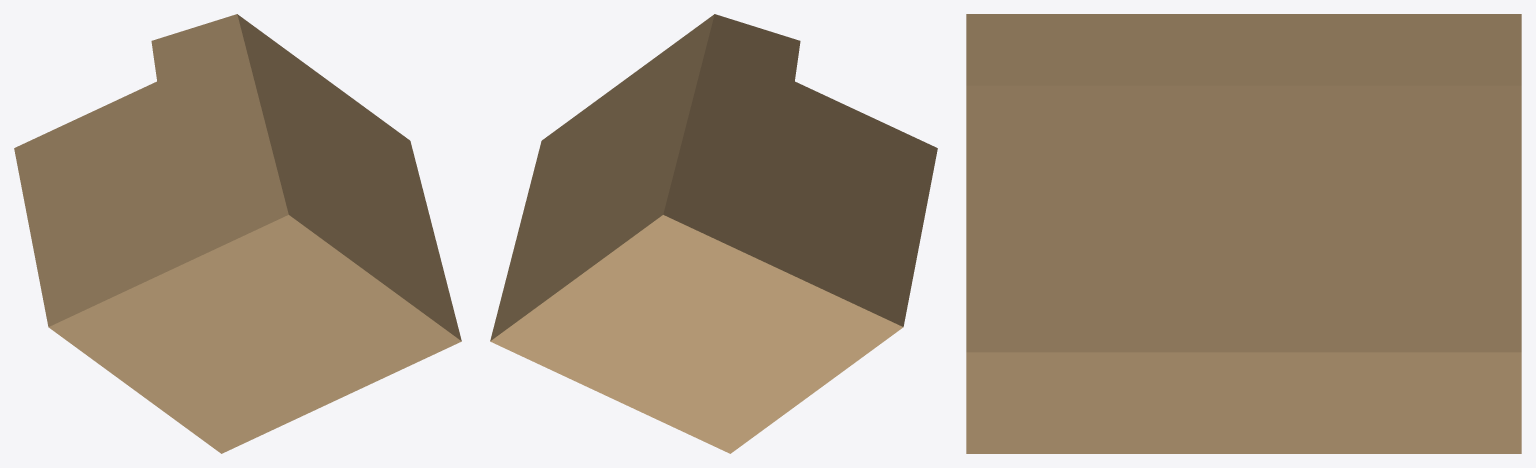
3 renders of one model, left to right at view 1: azimuth 30°, elevation 25°; view 2: azimuth 150°, elevation 25°; view 3: azimuth 270°, elevation 25°, orthographic. The views are drawn at different scales.
Parts seen in each view (by area): view 1: 0_0_3_1_2_0_3_3_2_0; view 2: 0_0_3_1_2_0_3_3_2_0; view 3: 0_0_3_1_2_0_3_3_2_0.
Part boxes in pixels (x1,y1,x2,y2): 0_0_3_1_2_0_3_3_2_0: (14, 14, 461, 453); 0_0_3_1_2_0_3_3_2_0: (490, 14, 937, 453); 0_0_3_1_2_0_3_3_2_0: (966, 14, 1521, 453).
Bounding box in the file's own units: 21.98 × 20.43 × 24.
